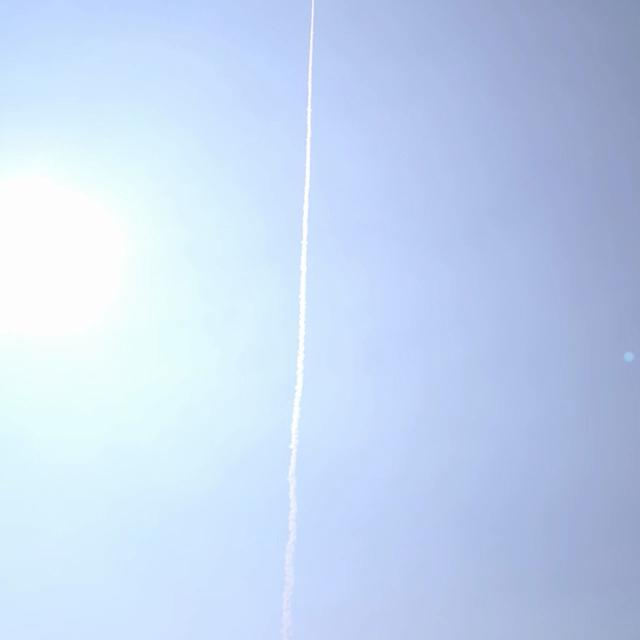smoke_trail_no_rocket: (281, 0, 313, 640)
